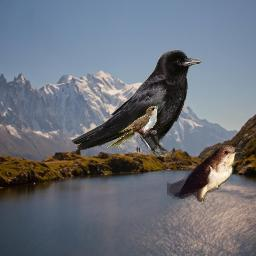Crow: (70, 49, 203, 157)
Cuckoo: (167, 145, 246, 202), (106, 104, 161, 148)
